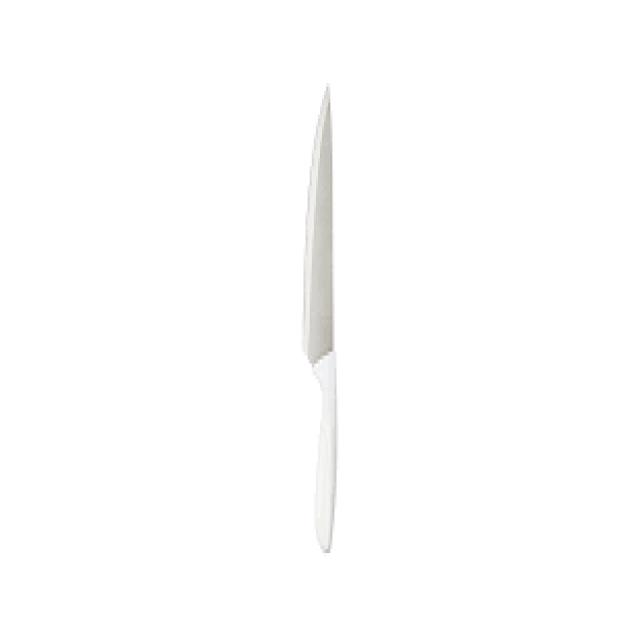Knife: (300, 79, 336, 549)
